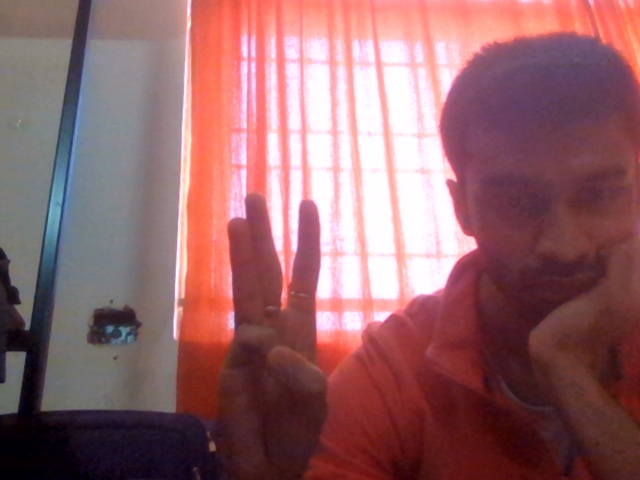W: (191, 175, 402, 480)
